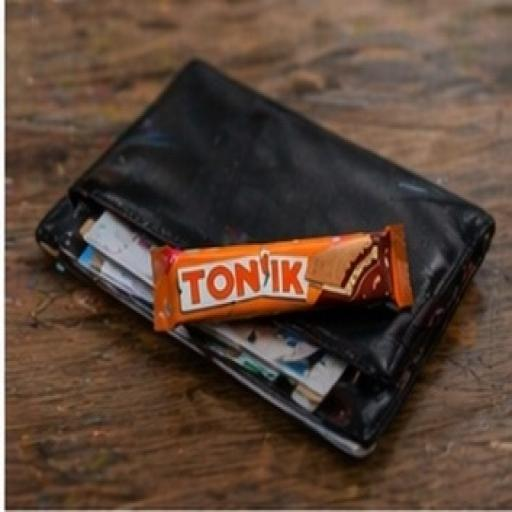tonik: (83, 135, 466, 505)
